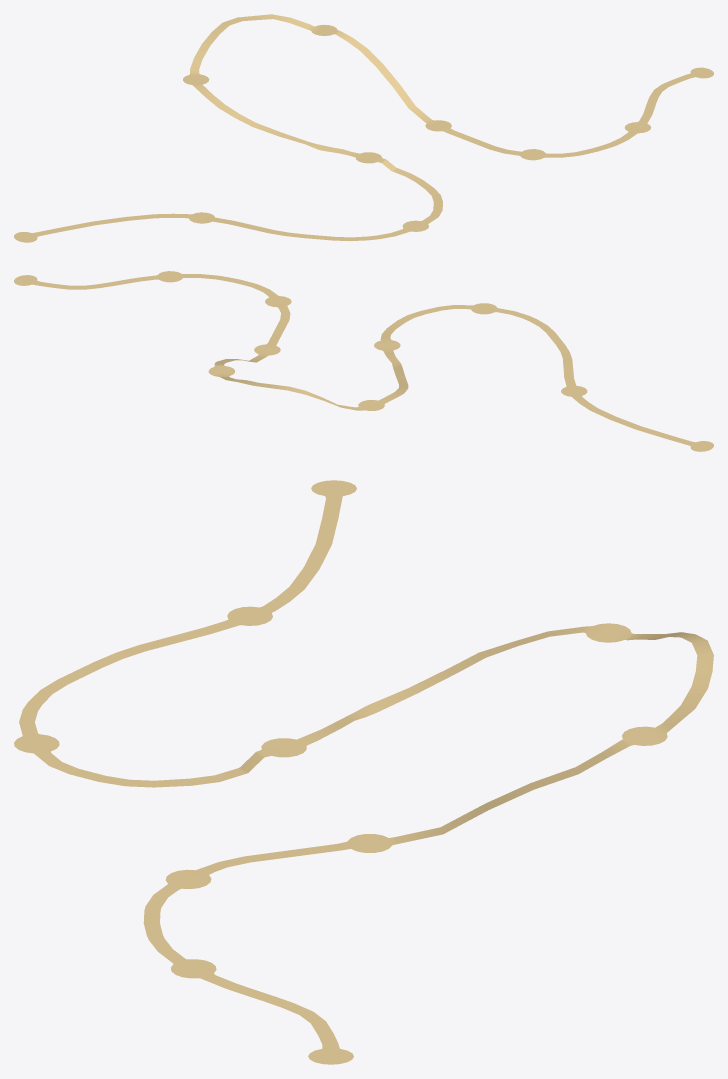
File: path_navmesh.glb
3 views of the same model, one above another, from view 1: azimuth 30°, elevation 25°; view 2: azimuth 150°, elevation 25°; view 3: azimuth 270°, elevation 25° (orthographic). The views are drawn at different scales.
Visible parts, largest first — view 1: navmesh; view 2: navmesh; view 3: navmesh.
Part boxes in pixels (x1=…): navmesh: x1=14, y1=14, x2=713, y2=242; navmesh: x1=14, y1=271, x2=713, y2=451; navmesh: x1=14, y1=480, x2=713, y2=1064.
Size of the model in its own units: 289 by 24.16 by 146.
